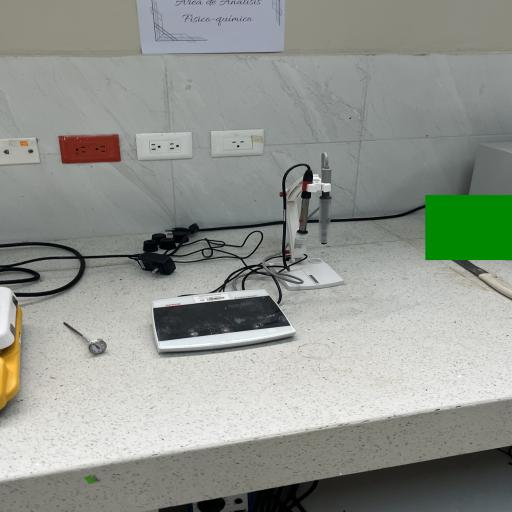Phmetro_Ohaus: (142, 287, 308, 356)
